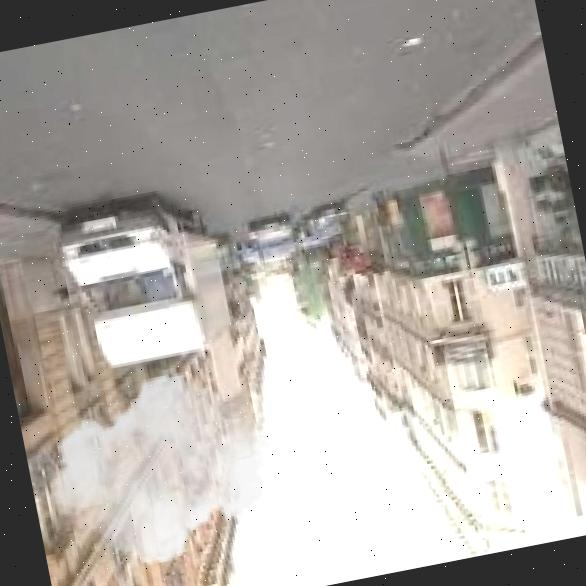smoke: (26, 348, 297, 586)
